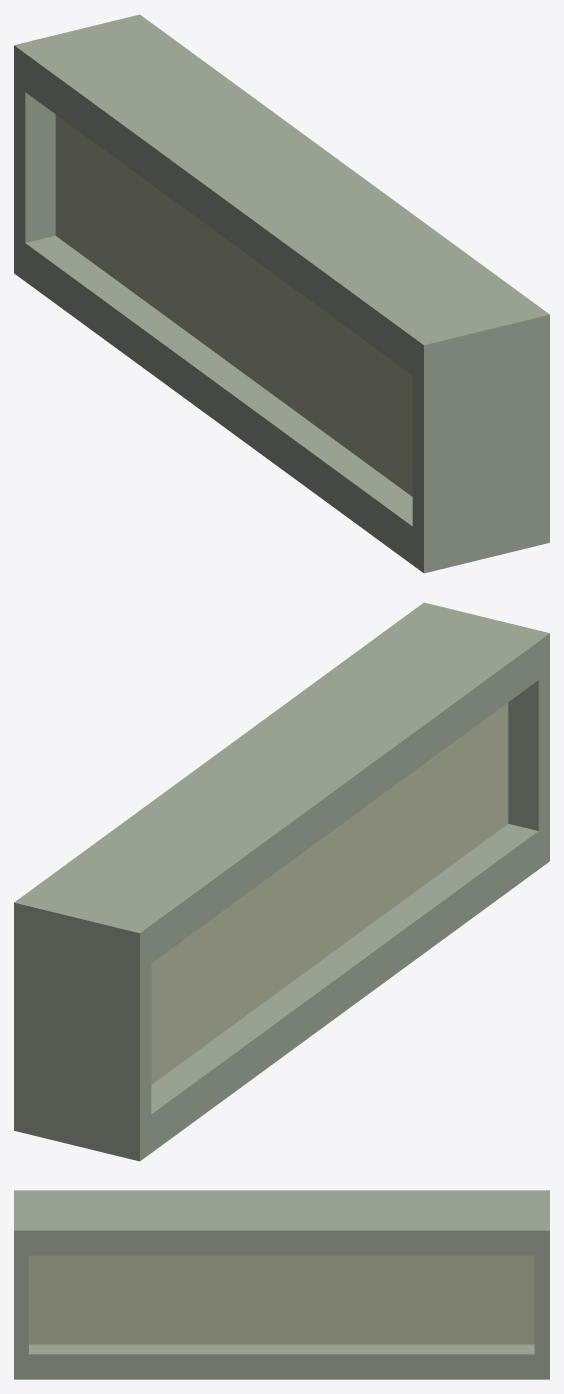
The model's file is Barrière 2.fbx.
3 views of the same model, one above another, from view 1: azimuth 30°, elevation 25°; view 2: azimuth 150°, elevation 25°; view 3: azimuth 270°, elevation 25° (orthographic). The views are drawn at different scales.
Parts seen in each view (by area): view 1: Rambarde Côté 2.0; view 2: Rambarde Côté 2.0; view 3: Rambarde Côté 2.0.
Part boxes in pixels (<box>): Rambarde Côté 2.0: <box>14,14,549,573</box>; Rambarde Côté 2.0: <box>14,602,549,1161</box>; Rambarde Côté 2.0: <box>14,1190,549,1379</box>.
Bounding box in the file's own units: 35.2 × 60.92 × 198.
